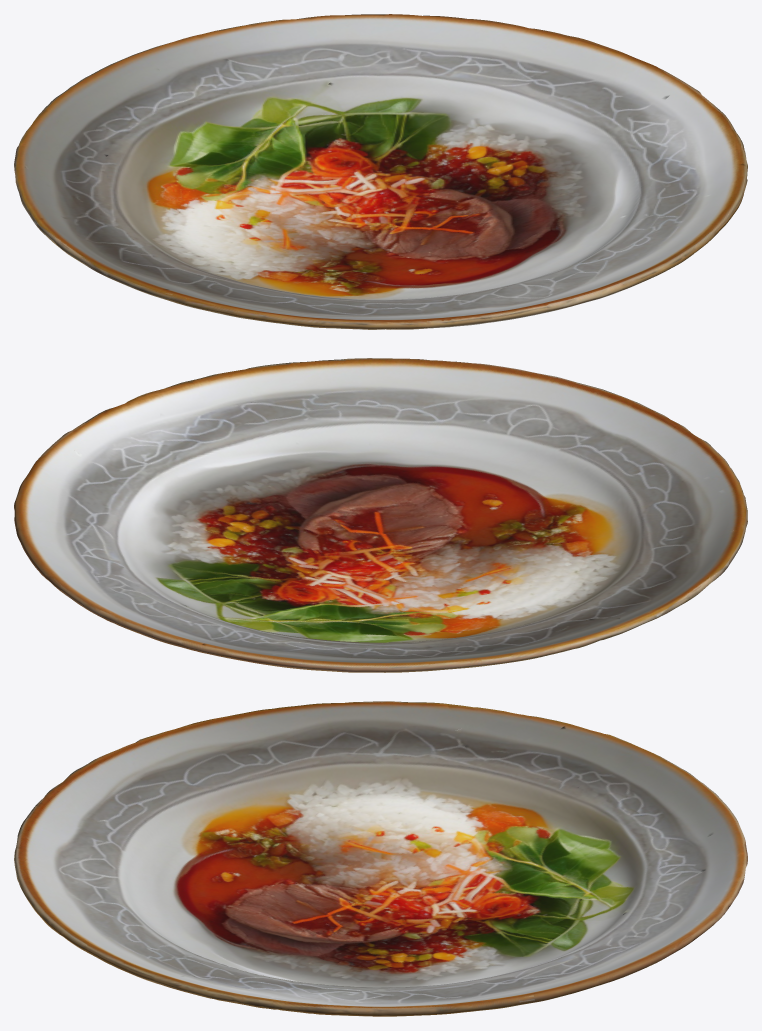
Rendered from PLATOPEDIDO-paramozo.fbx.
The picture shows the model from 3 angles, top to bottom: view 1: azimuth 30°, elevation 25°; view 2: azimuth 150°, elevation 25°; view 3: azimuth 270°, elevation 25°; orthographic projection.
Visible parts, largest first — view 1: PLATOPEDIDO; view 2: PLATOPEDIDO; view 3: PLATOPEDIDO.
Boxes of the visible parts, left/top/right/bottom form: PLATOPEDIDO: left=14, top=14, right=747, bottom=329; PLATOPEDIDO: left=14, top=358, right=747, bottom=672; PLATOPEDIDO: left=14, top=701, right=747, bottom=1016.
Bounding box in the file's own units: 200 × 17.22 × 200.
Materials: 1 (1 with a texture image).
